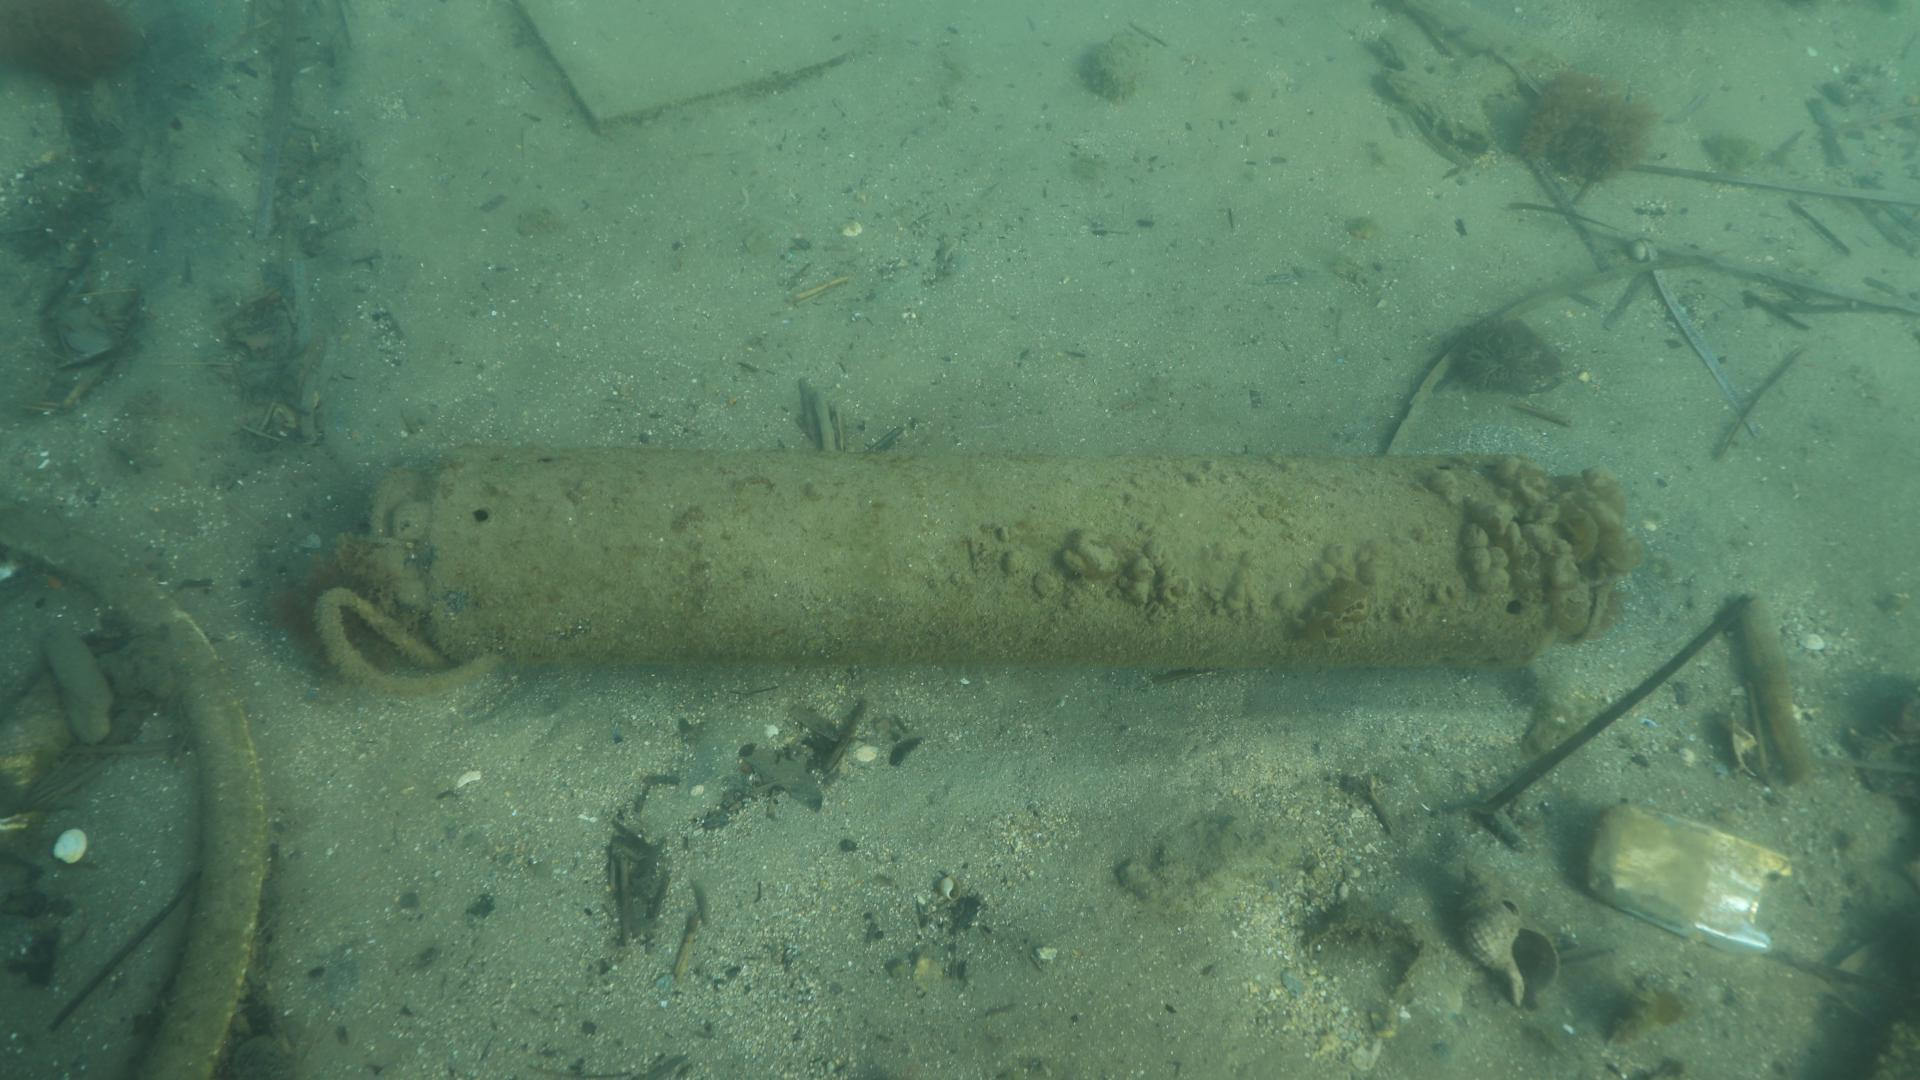eel fish trap: (314, 455, 1629, 704)
rope: (310, 582, 506, 698)
